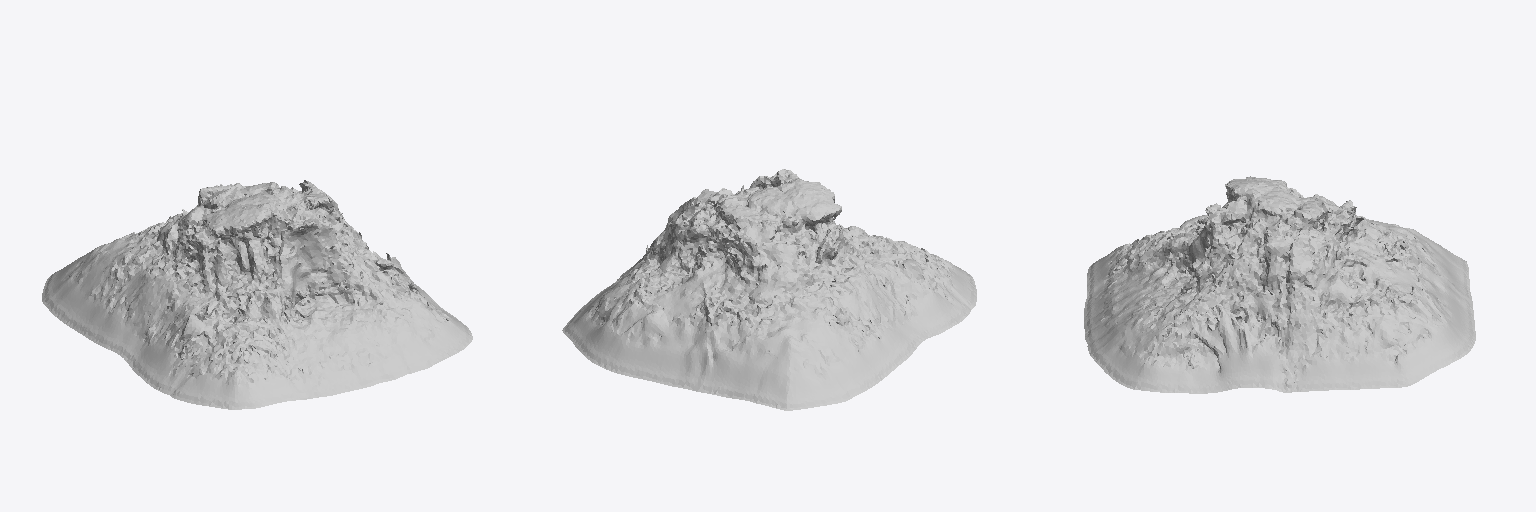
File: tree_stump_01_4k.obj
The picture shows the model from 3 angles: view 1: azimuth 30°, elevation 25°; view 2: azimuth 150°, elevation 25°; view 3: azimuth 270°, elevation 25°; orthographic projection.
Visible parts, largest first — view 1: tree_stump_01; view 2: tree_stump_01; view 3: tree_stump_01.
Boxes of the visible parts, x1,y1,x2,y2 form: tree_stump_01: [42, 180, 472, 409]; tree_stump_01: [562, 169, 976, 410]; tree_stump_01: [1084, 176, 1475, 393].
Bounding box in the file's own units: 1.43 × 0.5727 × 1.59.